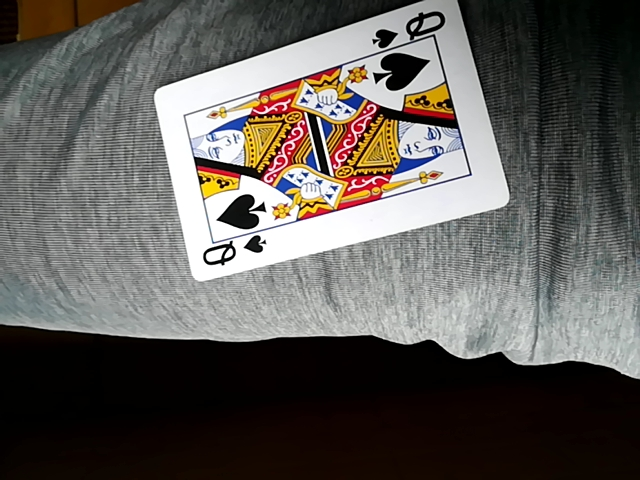ht q: (154, 1, 512, 283)
